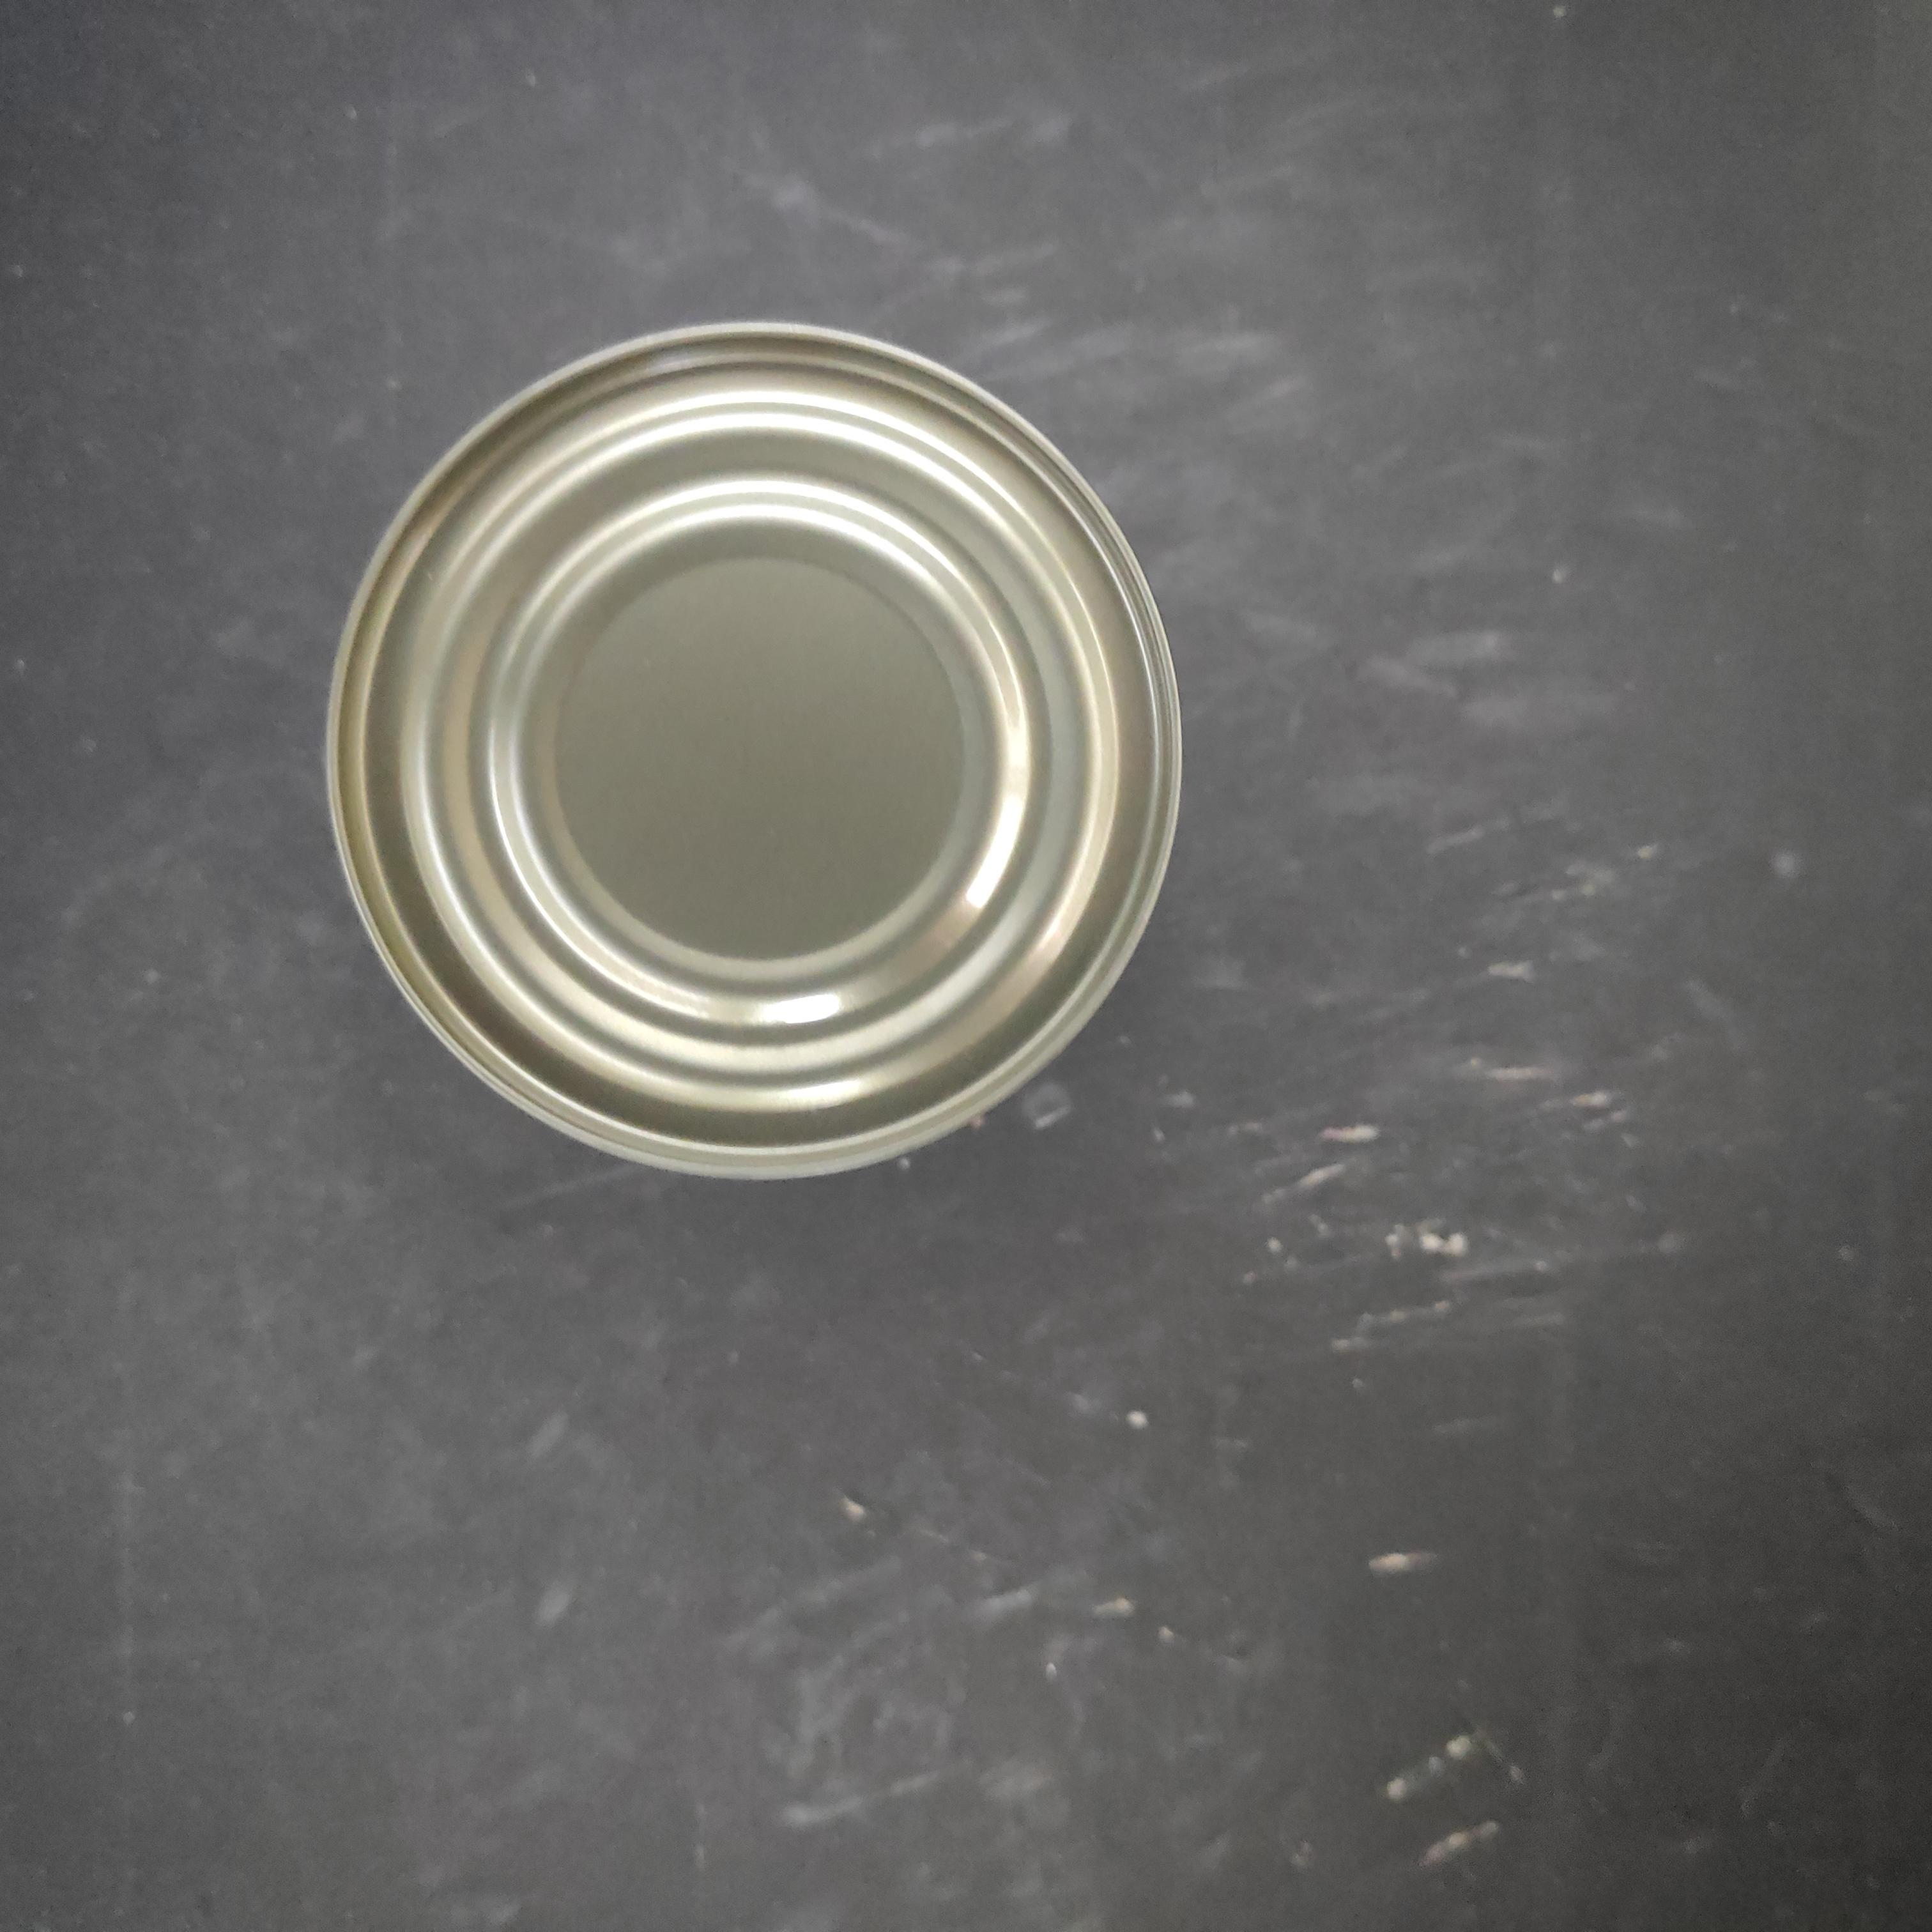No defect: (311, 735, 1190, 1627)
